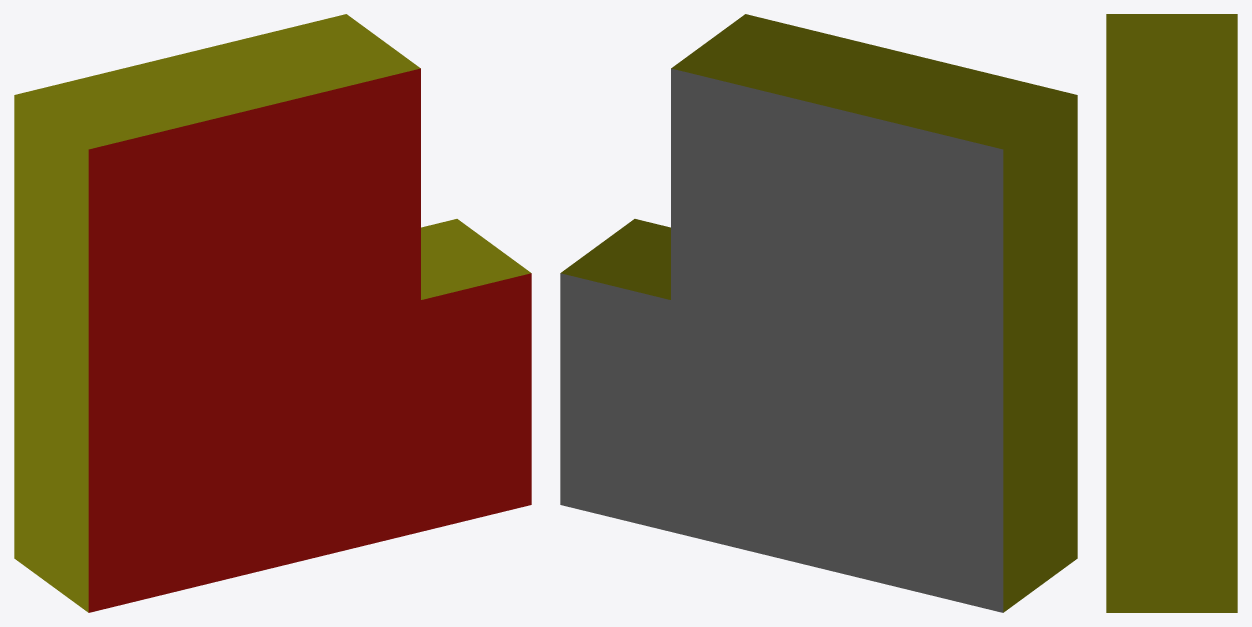
File: idf.obj
3 renders of one model, left to right at view 1: azimuth 30°, elevation 25°; view 2: azimuth 150°, elevation 25°; view 3: azimuth 270°, elevation 25°, orthographic. The views are drawn at different scales.
Size of the model in its own units: 12.19 by 12.19 by 3.55.
